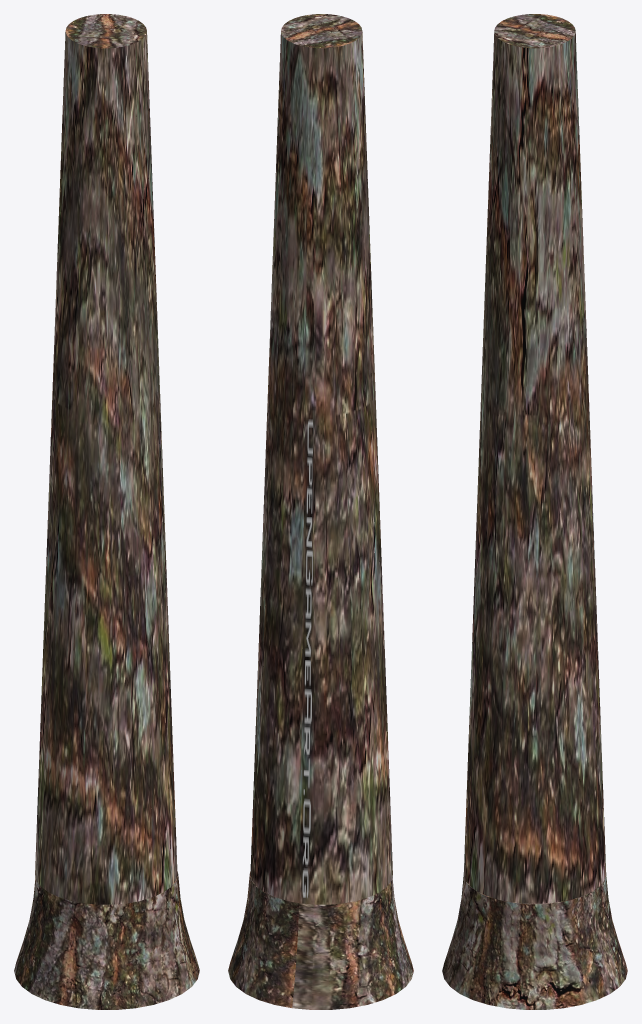
The model's file is Baumstumpf.fbx.
3 views of the same model, side by side, from view 1: azimuth 30°, elevation 25°; view 2: azimuth 150°, elevation 25°; view 3: azimuth 270°, elevation 25° (orthographic).
Visible parts, largest first — view 1: Cylinder, Cylinder.001; view 2: Cylinder, Cylinder.001; view 3: Cylinder, Cylinder.001.
Boxes of the visible parts, x1=… form: Cylinder: x1=35, y1=14, x2=177, y2=904; Cylinder.001: x1=14, y1=871, x2=199, y2=1009; Cylinder: x1=250, y1=14, x2=392, y2=904; Cylinder.001: x1=228, y1=871, x2=413, y2=1009; Cylinder: x1=463, y1=14, x2=606, y2=903; Cylinder.001: x1=442, y1=874, x2=627, y2=1009.
Bounding box in the file's own units: 2.59 × 14.55 × 2.61.
